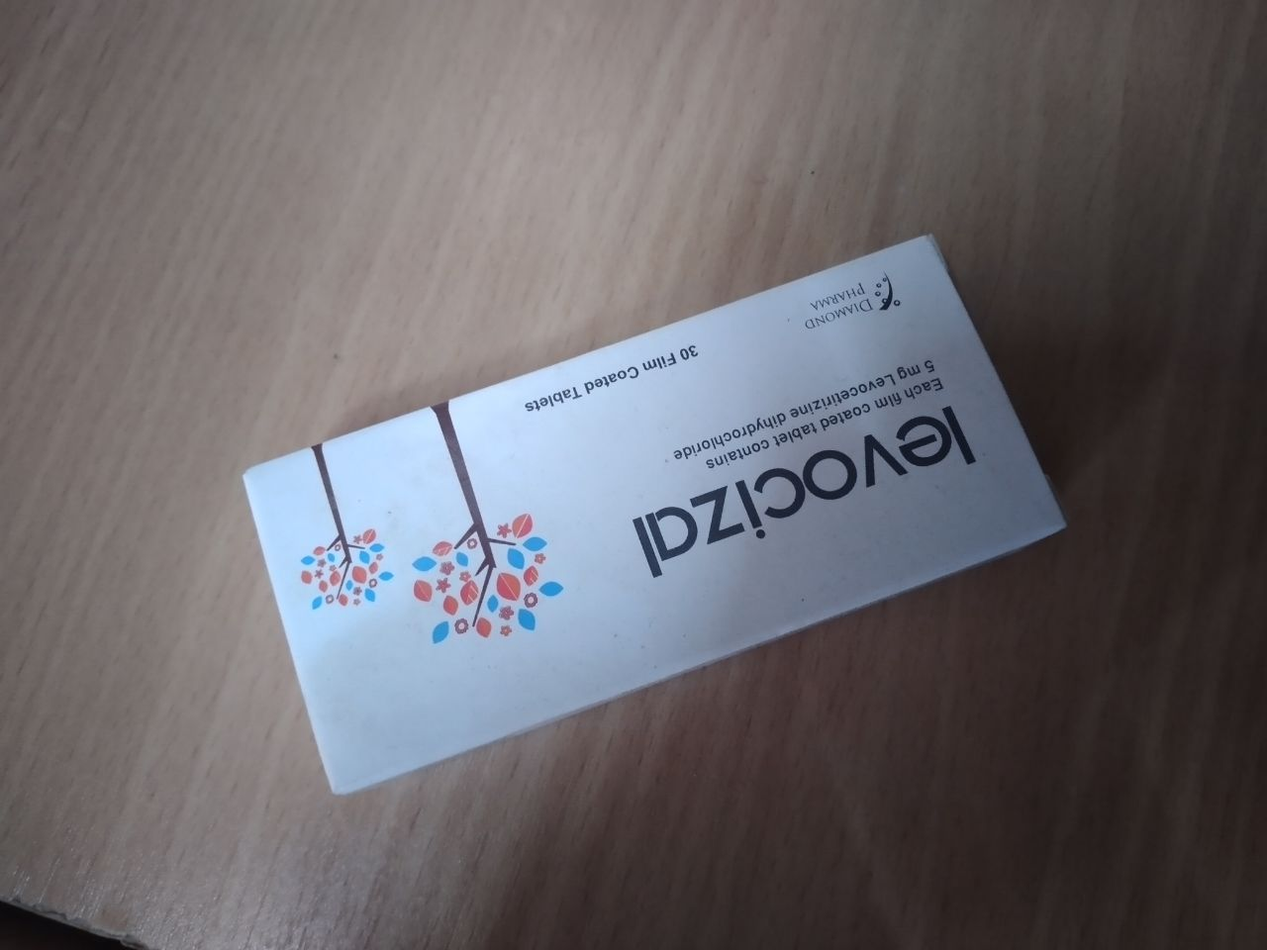Medicine: (235, 233, 1126, 802)
